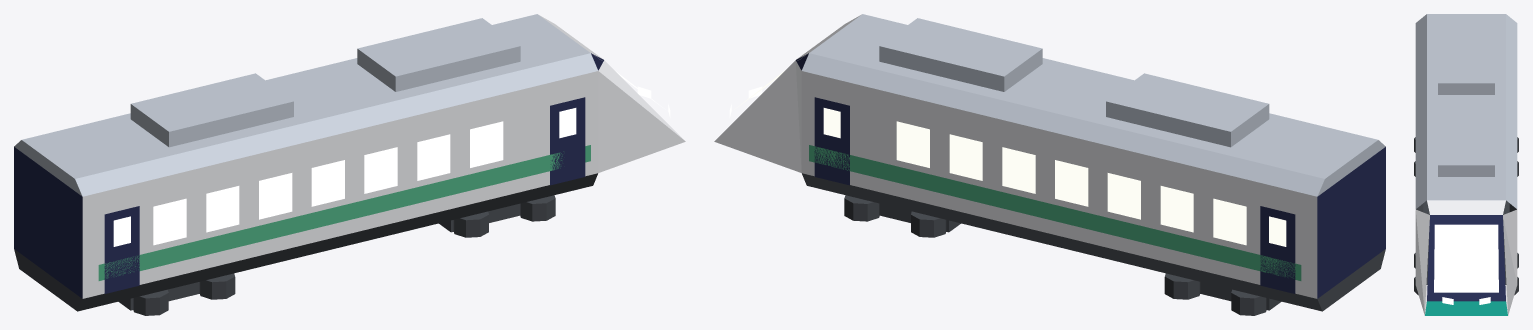
Rendered from lrt-kaohsiung.glb.
The picture shows the model from 3 angles, left to right: view 1: azimuth 30°, elevation 25°; view 2: azimuth 150°, elevation 25°; view 3: azimuth 270°, elevation 25°; orthographic projection. The views are drawn at different scales.
Parts seen in each view (by area): view 1: lrt-kaohsiung_root; view 2: lrt-kaohsiung_root; view 3: lrt-kaohsiung_root.
Part boxes in pixels (x1,y1,x2,y2): lrt-kaohsiung_root: (14, 14, 685, 315); lrt-kaohsiung_root: (714, 14, 1385, 315); lrt-kaohsiung_root: (1414, 14, 1518, 315).
Size of the model in its own units: 15.65 by 4.04 by 3.14.
Materials: 2 (2 with a texture image).
